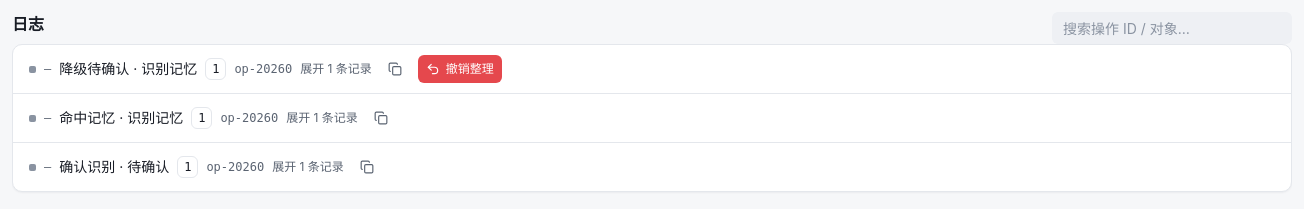
Test: LogsPage(分组契约冒烟,mock fixtures 无时间字段) › 搜索框 placeholder 不变,仍按原始 operation_id/entity/action 过滤
Expected: the text "降级待确认 · 识别记忆" is shown, [59,59,197,79]
Type "pending_confirm" into the search field with placeholder "搜索操作 ID / 对象…" at (1172, 28), box [1052,12,1292,44]
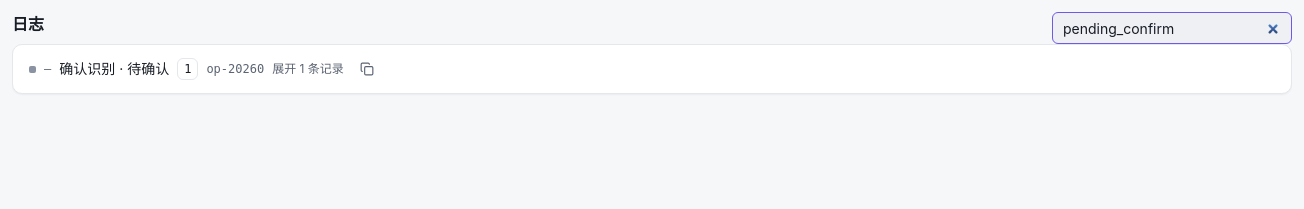
Expected: the text "确认识别 · 待确认" is shown, [59,59,169,79]
Expected: the button "降级待确认 · 识别记忆" is gone
